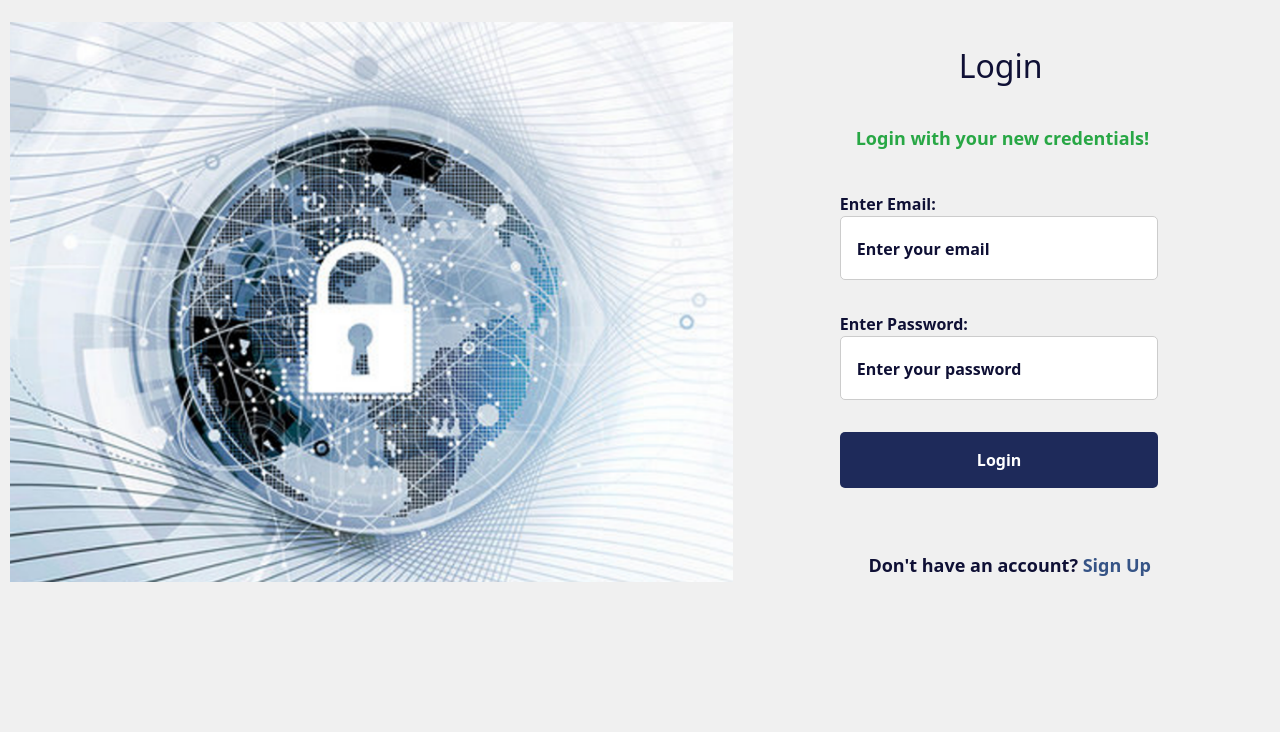
Test case: Login Component › handles login failure with error message
Type "wrong@example.com" into the field with placeholder "Enter your email".
click(999, 248); type("wrong@example.com")  # box [840,216,1158,280]
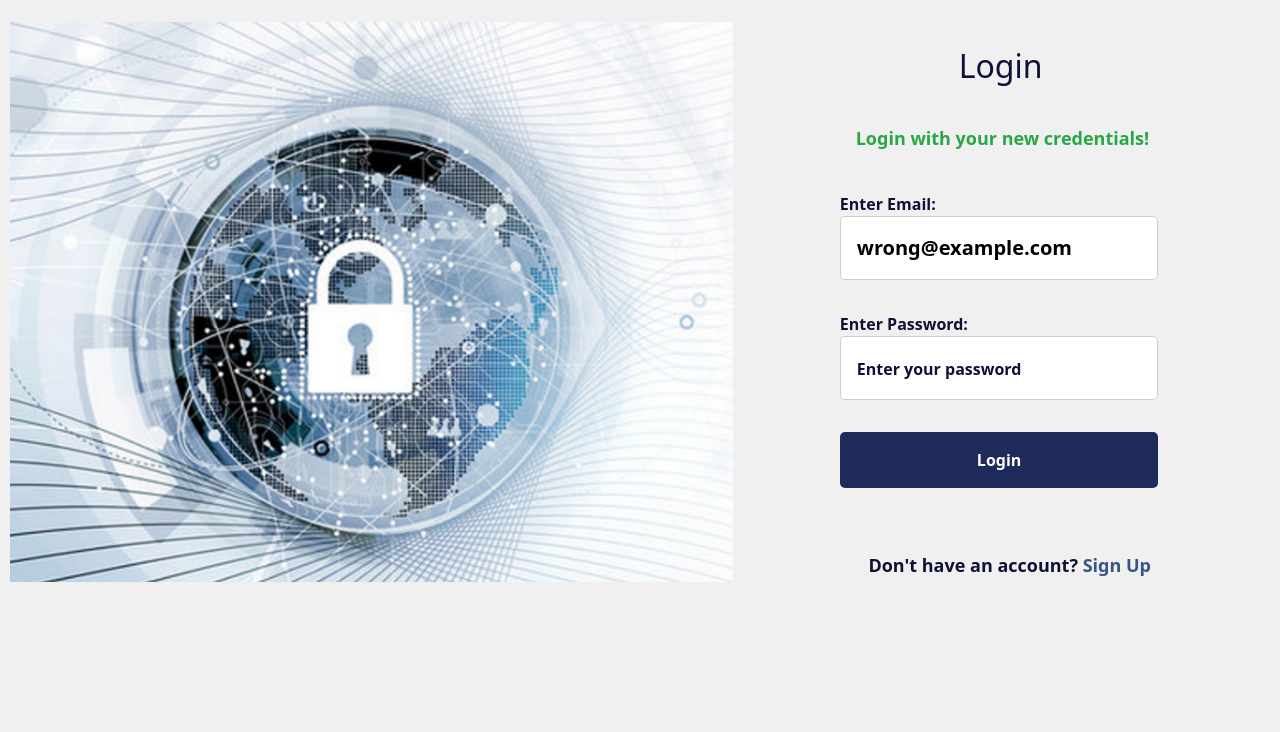
Type "wrongpassword" into the password field with placeholder "Enter your password".
click(999, 368); type("wrongpassword")  # box [840,336,1158,400]
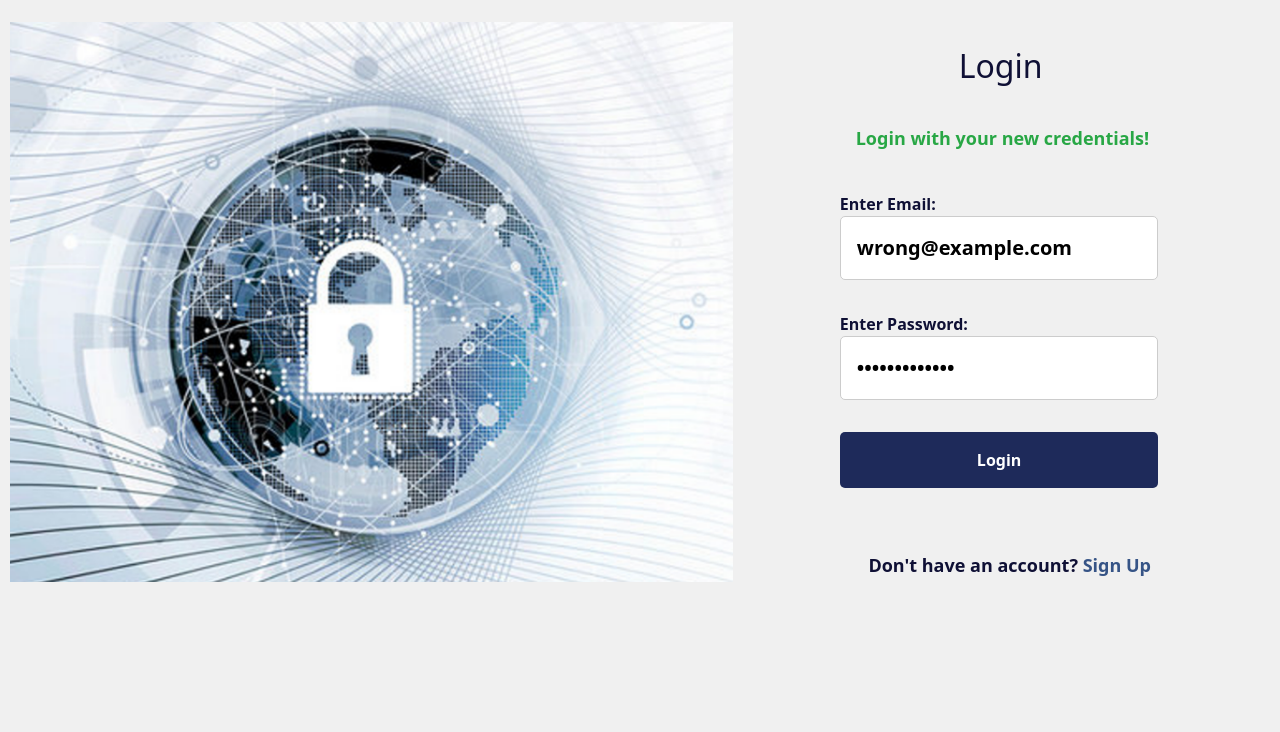
Click the button "Login".
click(999, 460)  # box [840,432,1158,488]
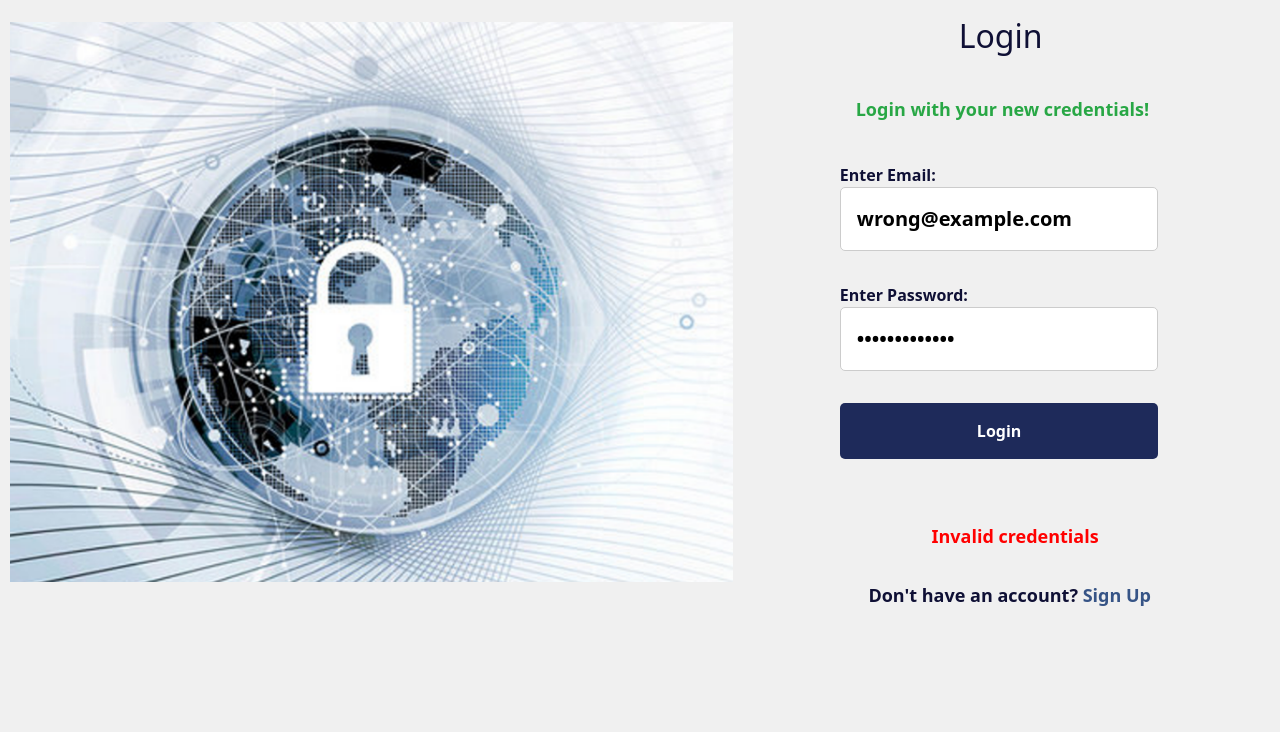
expect the text "Invalid credentials" is shown: met, box [932,524,1099,548]
